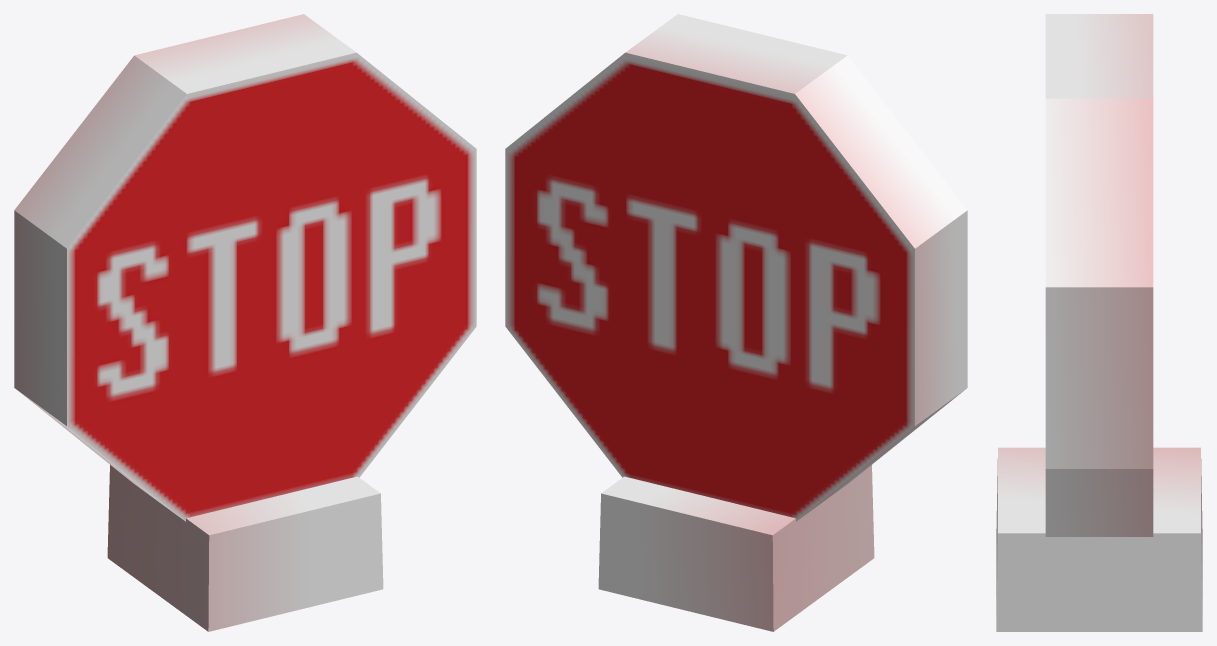
Rendered from Part_Sign_Stop.FBX.
The picture shows the model from 3 angles, left to right: view 1: azimuth 30°, elevation 25°; view 2: azimuth 150°, elevation 25°; view 3: azimuth 270°, elevation 25°; orthographic projection. The views are drawn at different scales.
Parts seen in each view (by area): view 1: Part_Sign_Main_Stop; view 2: Part_Sign_Main_Stop; view 3: Part_Sign_Main_Stop.
Part boxes in pixels (<box>): Part_Sign_Main_Stop: <box>14,14,476,631</box>; Part_Sign_Main_Stop: <box>505,14,967,631</box>; Part_Sign_Main_Stop: <box>996,14,1202,631</box>.
Size of the model in its own units: 224 by 272 by 95.71.
